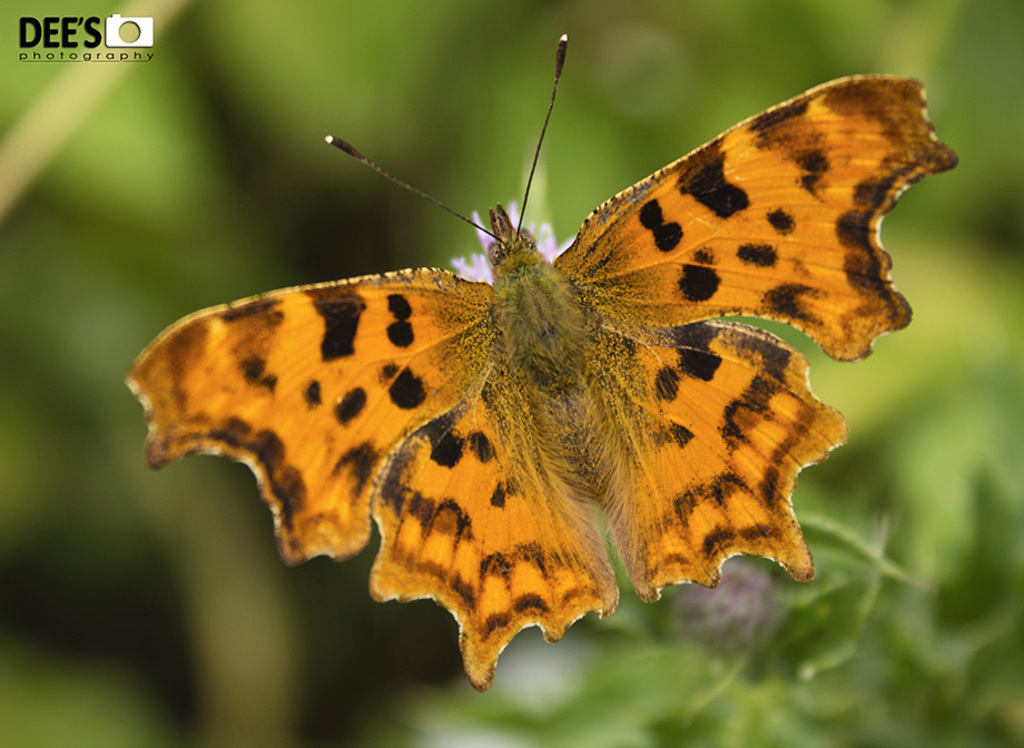Butterfly: (100, 46, 956, 702)
